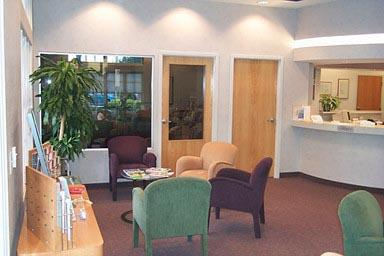Puerta: (232, 57, 276, 158), (163, 53, 213, 141)
